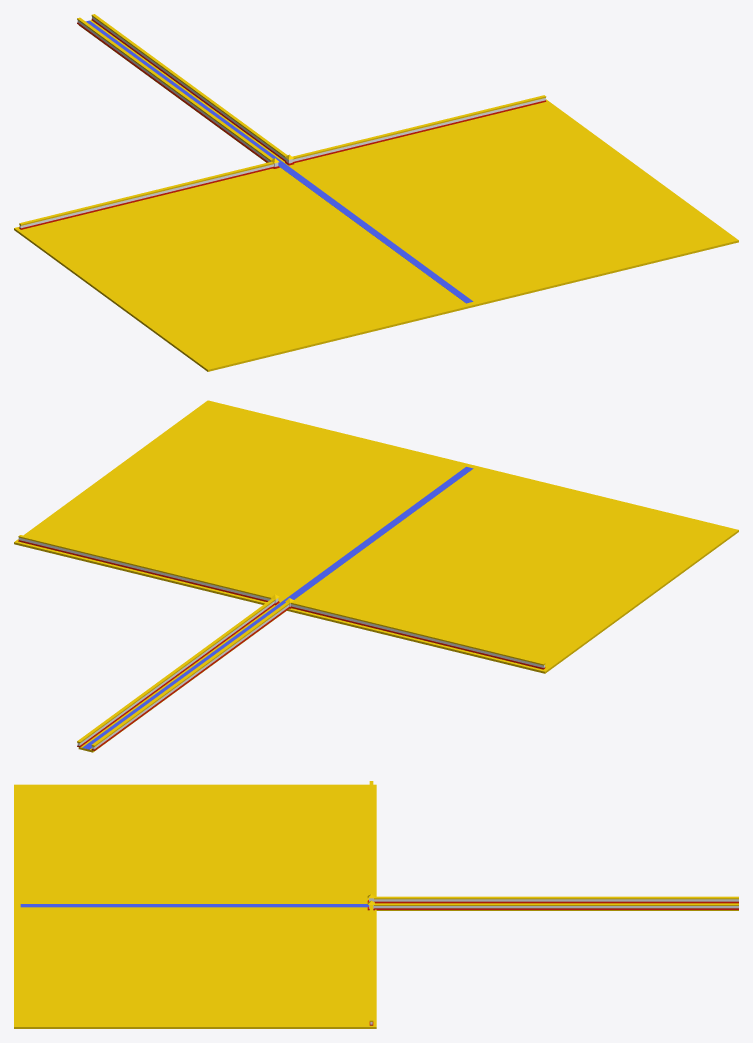
The model's file is WorldHeavenTerrain.glb.
3 views of the same model, one above another, from view 1: azimuth 30°, elevation 25°; view 2: azimuth 150°, elevation 25°; view 3: azimuth 270°, elevation 25° (orthographic). The views are drawn at different scales.
Visible parts, largest first — view 1: Ground, Floor, Wall 4, Wall 3, Wall 2, Wall 1, Bridge; view 2: Ground, Floor, Wall 4, Wall 3, Wall 2, Wall 1, Bridge; view 3: Ground, Wall 2, Wall 1, Floor, Wall 3, Wall 4.
Boxes of the visible parts, x1,y1,x2,y2 form: Ground: (14,99,738,371); Floor: (86,20,473,303); Wall 4: (19,161,273,229); Wall 3: (292,95,546,163); Wall 2: (77,17,272,162); Wall 1: (91,14,287,161); Bridge: (79,20,284,162); Ground: (14,400,738,673); Floor: (82,466,473,749); Wall 4: (290,601,545,669); Wall 3: (18,535,272,601); Wall 2: (91,602,289,750); Wall 1: (77,599,274,747); Bridge: (78,605,286,752); Ground: (14,784,376,1028); Wall 2: (374,896,738,903); Wall 1: (374,903,738,909); Floor: (20,904,368,907); Wall 3: (369,905,373,1025); Wall 4: (369,781,373,894).
Size of the model in its own units: 410 by 8.1 by 519.
